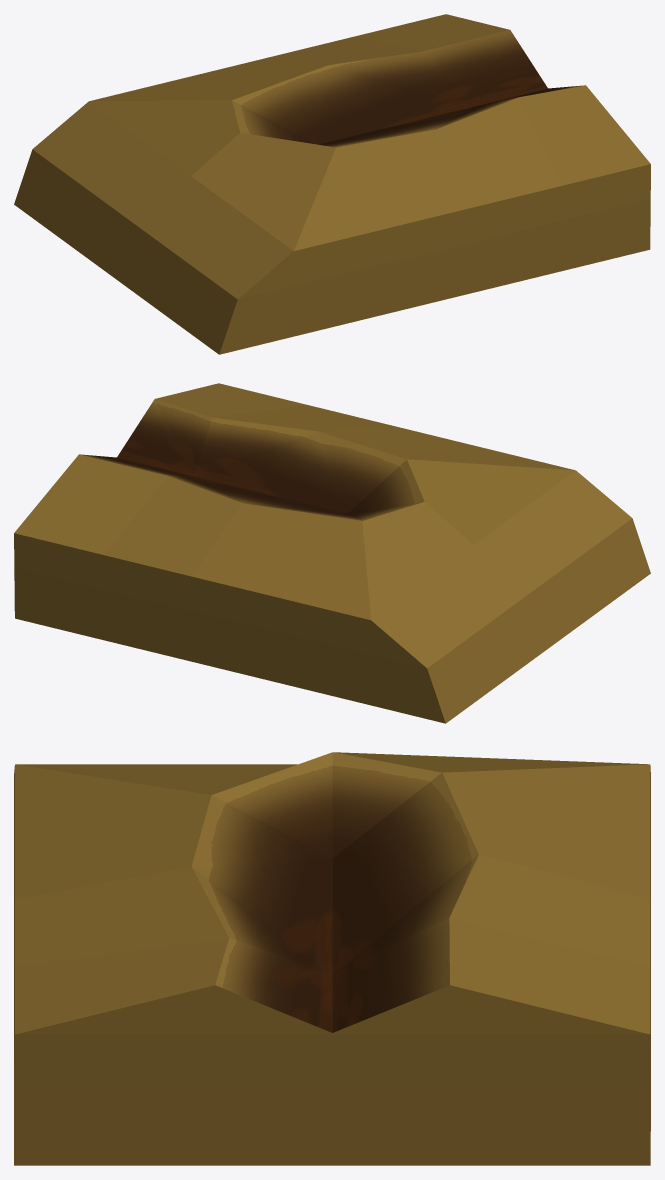
Rendered from groove_water_bed5.fbx.
The picture shows the model from 3 angles, top to bottom: view 1: azimuth 30°, elevation 25°; view 2: azimuth 150°, elevation 25°; view 3: azimuth 270°, elevation 25°; orthographic projection. The views are drawn at different scales.
Parts seen in each view (by area): view 1: Куб.015; view 2: Куб.015; view 3: Куб.015.
Boxes of the visible parts, box(x1,y1,x2,y2) form: Куб.015: box(14, 14, 650, 354); Куб.015: box(14, 383, 650, 723); Куб.015: box(14, 752, 650, 1165).
Size of the model in its own units: 85 by 21.96 by 70.
